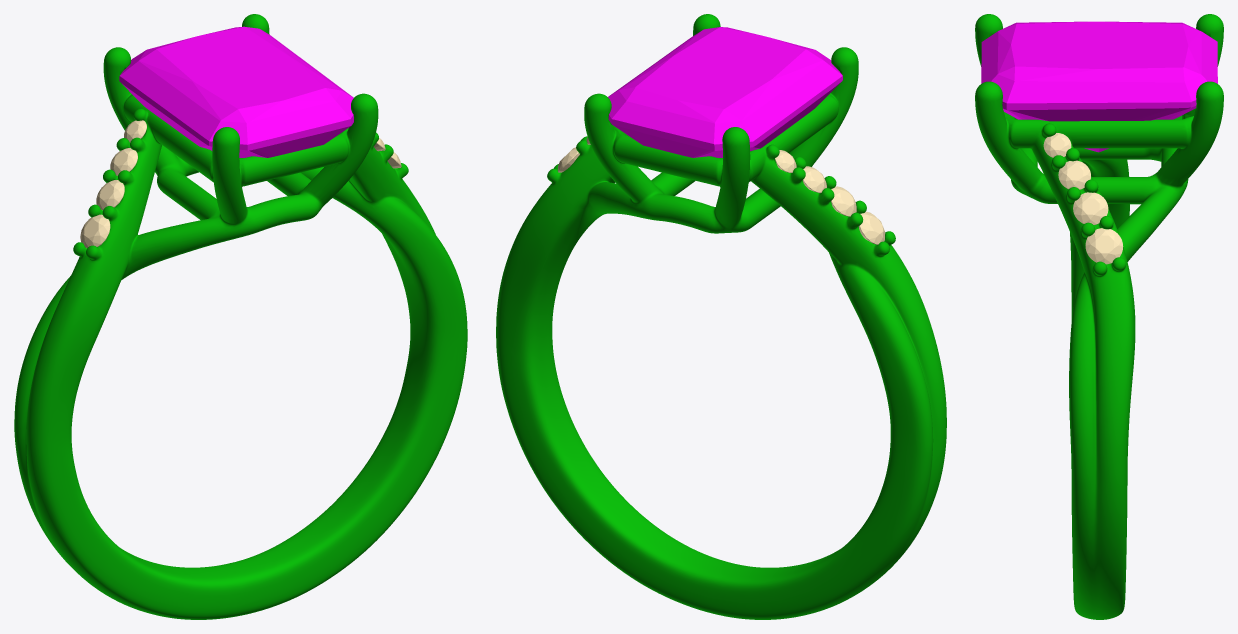
The model's file is BE1AS8PD08_RA_200ct_RENDER.glb.
The picture shows the model from 3 angles, left to right: view 1: azimuth 30°, elevation 25°; view 2: azimuth 150°, elevation 25°; view 3: azimuth 270°, elevation 25°; orthographic projection.
Parts seen in each view (by area): view 1: Metal 01, CS_Diamond_Radiant, Diamond_Round_Gem_SH.003, Diamond_Round_Gem_SH.002; view 2: Metal 01, CS_Diamond_Radiant, Diamond_Round_Gem_SH.003; view 3: Metal 01, CS_Diamond_Radiant, Diamond_Round_Gem_SH.004, Diamond_Round_Gem_SH.005, Diamond_Round_Gem_SH.006, Diamond_Round_Gem_SH.007.
Part boxes in pixels (<box>): Metal 01: <box>14,14,467,619</box>; CS_Diamond_Radiant: <box>119,26,353,157</box>; Diamond_Round_Gem_SH.003: <box>80,214,110,248</box>; Diamond_Round_Gem_SH.002: <box>96,180,124,210</box>; Metal 01: <box>496,14,946,619</box>; CS_Diamond_Radiant: <box>608,27,842,157</box>; Diamond_Round_Gem_SH.003: <box>859,211,885,244</box>; Metal 01: <box>975,14,1223,619</box>; CS_Diamond_Radiant: <box>981,21,1217,152</box>; Diamond_Round_Gem_SH.004: <box>1085,228,1123,264</box>; Diamond_Round_Gem_SH.005: <box>1073,192,1108,224</box>; Diamond_Round_Gem_SH.006: <box>1058,160,1090,189</box>; Diamond_Round_Gem_SH.007: <box>1043,133,1071,157</box>.
Bounding box in the file's own units: 20.27 × 24.15 × 9.88.
